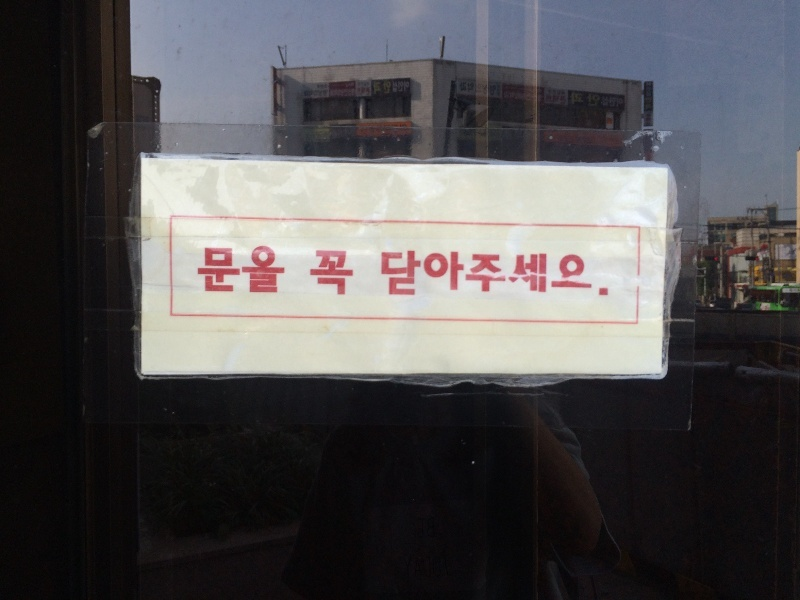text: (209, 245, 224, 295), (225, 245, 240, 295), (241, 245, 256, 295), (257, 245, 272, 295), (385, 250, 400, 298), (401, 250, 416, 298), (417, 250, 432, 298), (433, 250, 448, 298), (449, 250, 464, 298), (465, 250, 480, 298), (481, 250, 496, 298), (497, 250, 512, 298), (513, 250, 528, 298), (529, 250, 544, 298), (545, 250, 560, 298), (561, 250, 576, 298), (577, 250, 592, 298), (593, 250, 608, 298), (321, 250, 336, 297), (337, 250, 352, 297), (273, 245, 286, 295), (198, 245, 208, 295), (311, 250, 320, 297), (513, 85, 528, 103), (337, 81, 352, 98), (465, 81, 480, 98), (481, 81, 496, 98), (529, 85, 543, 103), (546, 90, 560, 106), (305, 84, 320, 98), (609, 95, 624, 109), (380, 250, 384, 298), (503, 85, 512, 103), (357, 81, 368, 95), (373, 81, 384, 95), (577, 91, 585, 106), (593, 93, 601, 108), (401, 81, 410, 94), (321, 84, 329, 98), (569, 91, 576, 106), (585, 93, 592, 108), (392, 81, 400, 94), (330, 81, 336, 98), (385, 81, 392, 95), (601, 95, 608, 109), (609, 250, 611, 298), (561, 90, 567, 106), (460, 81, 464, 98), (497, 81, 501, 98), (353, 250, 354, 297), (353, 81, 355, 98), (302, 84, 304, 98), (369, 81, 371, 95), (383, 81, 384, 95)
